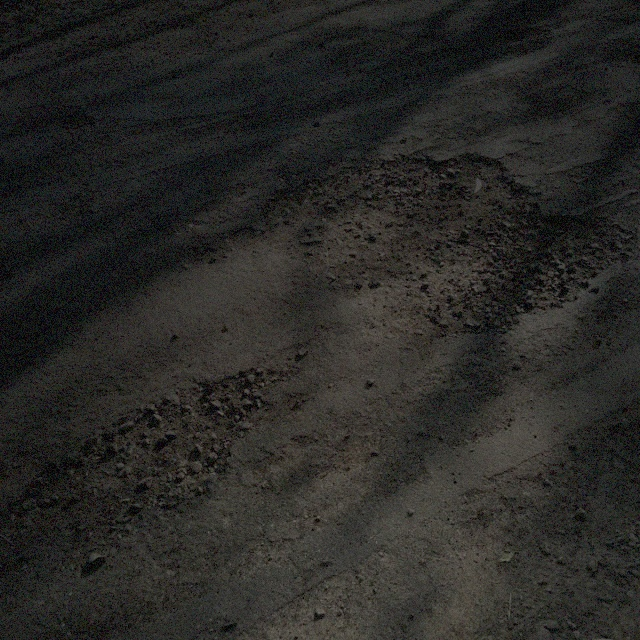pothole: (242, 147, 634, 340), (0, 365, 289, 539)
